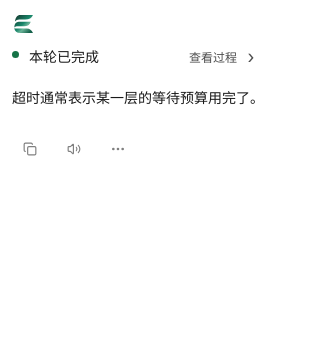
assistant execution process › 将模型混在同一文本块的思考折叠，只直接显示答案
Expected: the text "超时通常表示某一层的等待预算用完了。" is shown, left=12, top=86, right=264, bottom=109
Expected: the text "The user asks about a timeout." is not shown
Click the button "查看过程 ›" at (224, 57), box left=185, top=42, right=264, bottom=72
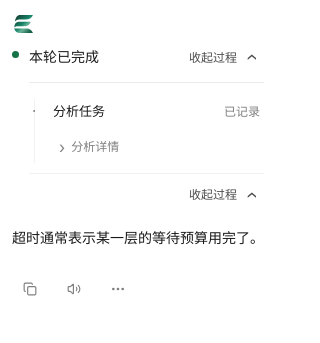
Click the heading "分析详情" at (89, 147), box left=59, top=133, right=119, bottom=161
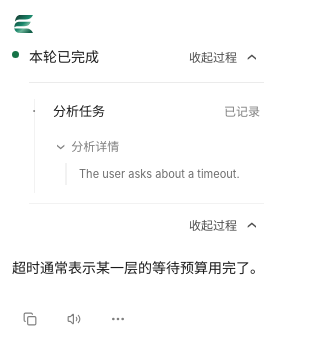
Expected: the text "The user asks about a timeout." is shown, left=79, top=165, right=256, bottom=183
